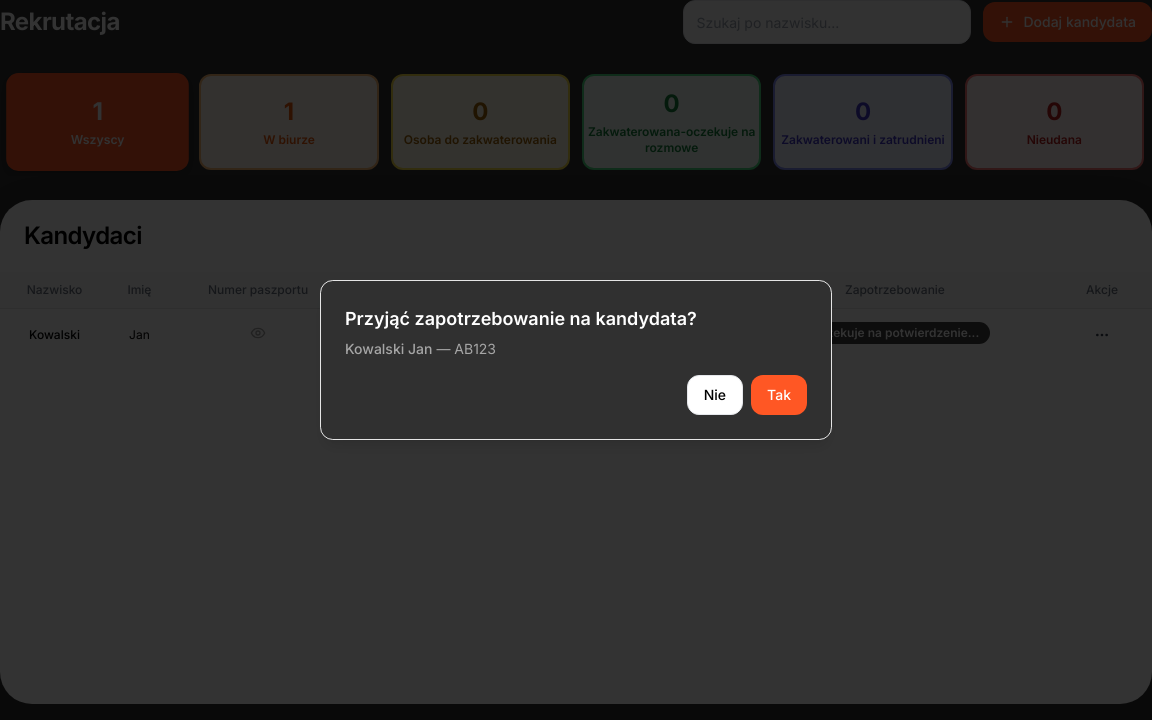
Test: RecruitmentView › "are you sure" -> Yes closes dialogs and clears URL param
Expected: the heading "Przyjąć zapotrzebowanie na kandydata?" is shown, [345,308,697,329]
Click the button "Nie" at (715, 395), box [687,375,743,415]
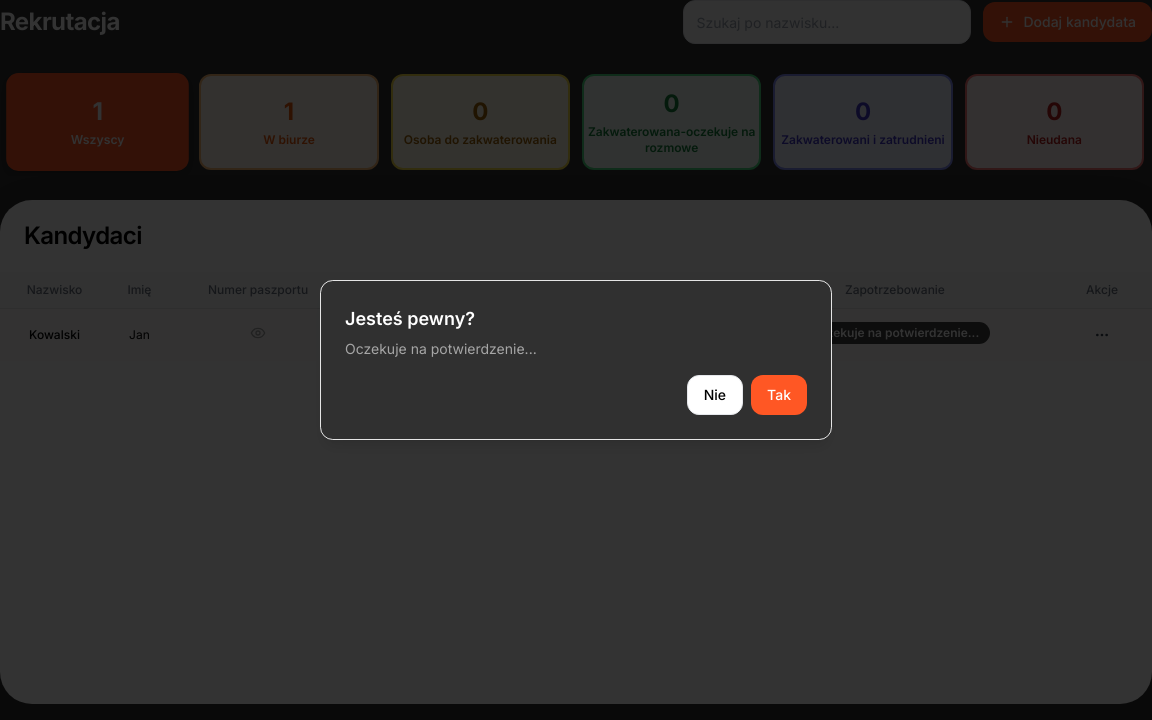
Now the heading "Jesteś pewny?" is shown, box [345,308,475,329]
Click the button "Tak" at (779, 395), box [751,375,807,415]
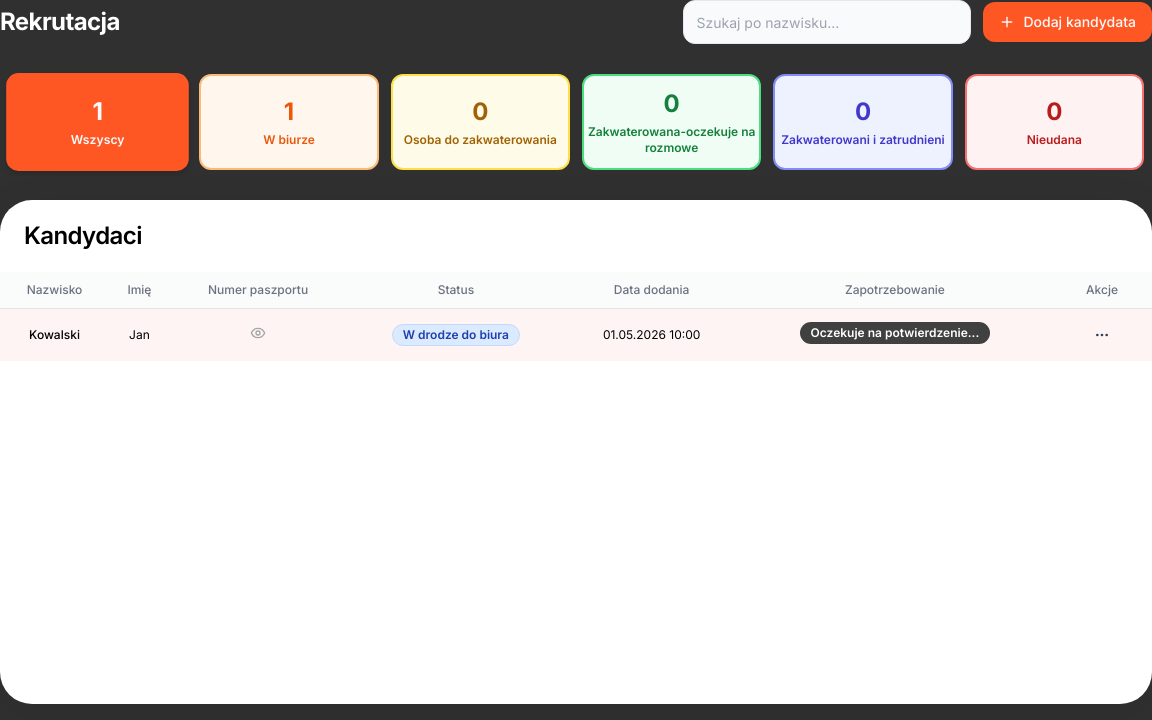
Expected: the heading "Przyjąć zapotrzebowanie na kandydata" is not shown
Now the heading "Jesteś pewny" is gone
